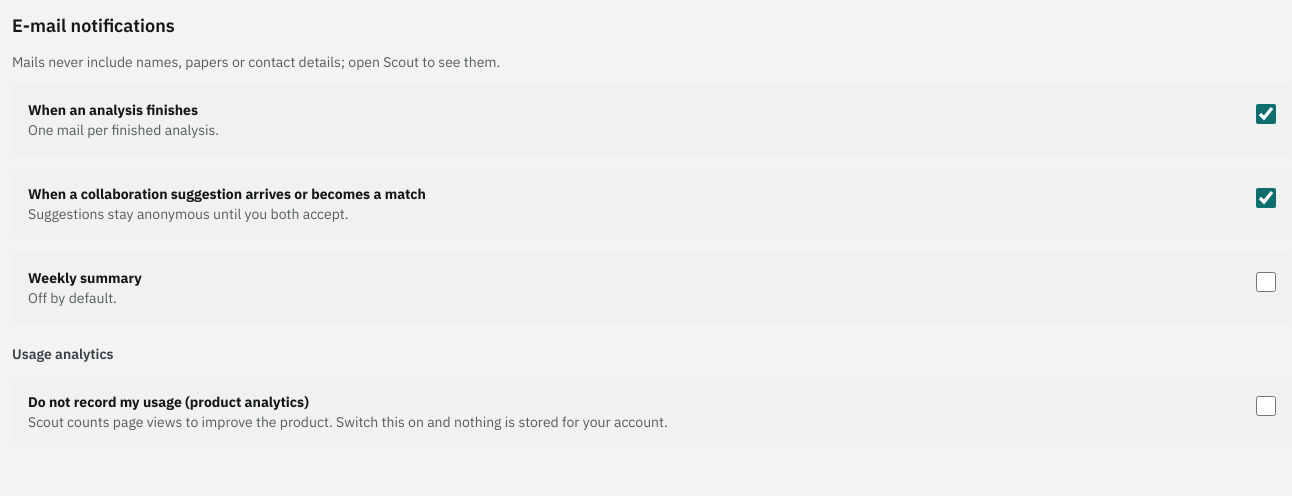
NotificationSettings › rolls back the analytics switch when saving fails
Click the checkbox labelled "Do not record my usage (product analytics)" at (1266, 406), box [1256,396,1276,416]
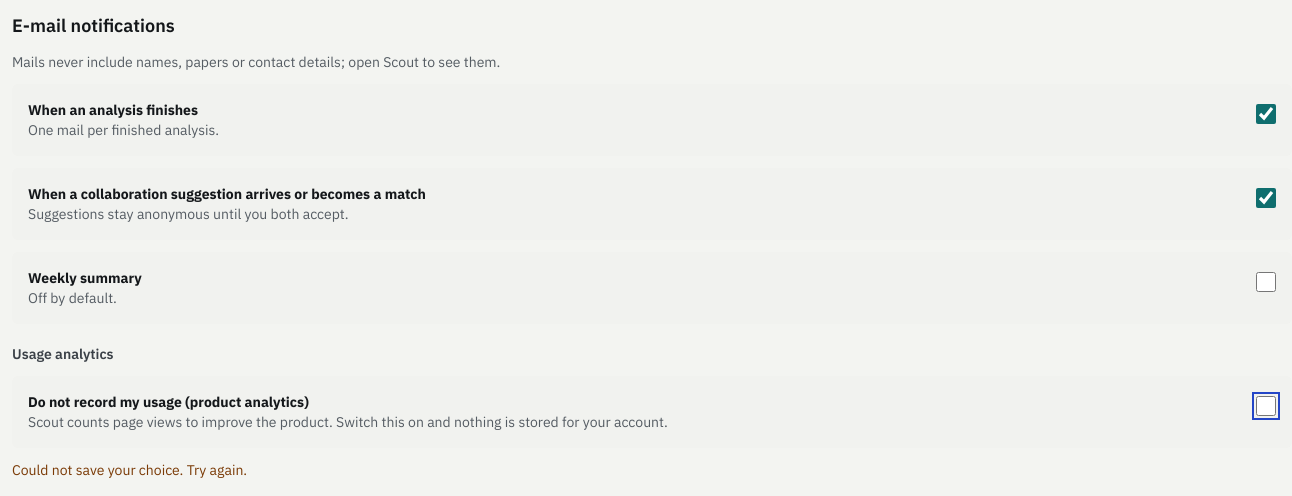
Now the message shows "Could not save", box [12,461,247,479]
